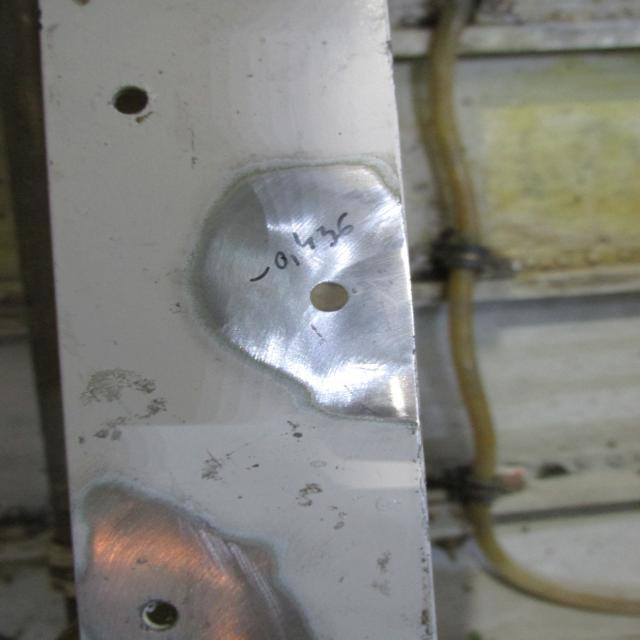Missing Fastener: (302, 271, 360, 319), (104, 72, 156, 125), (128, 588, 184, 636)
